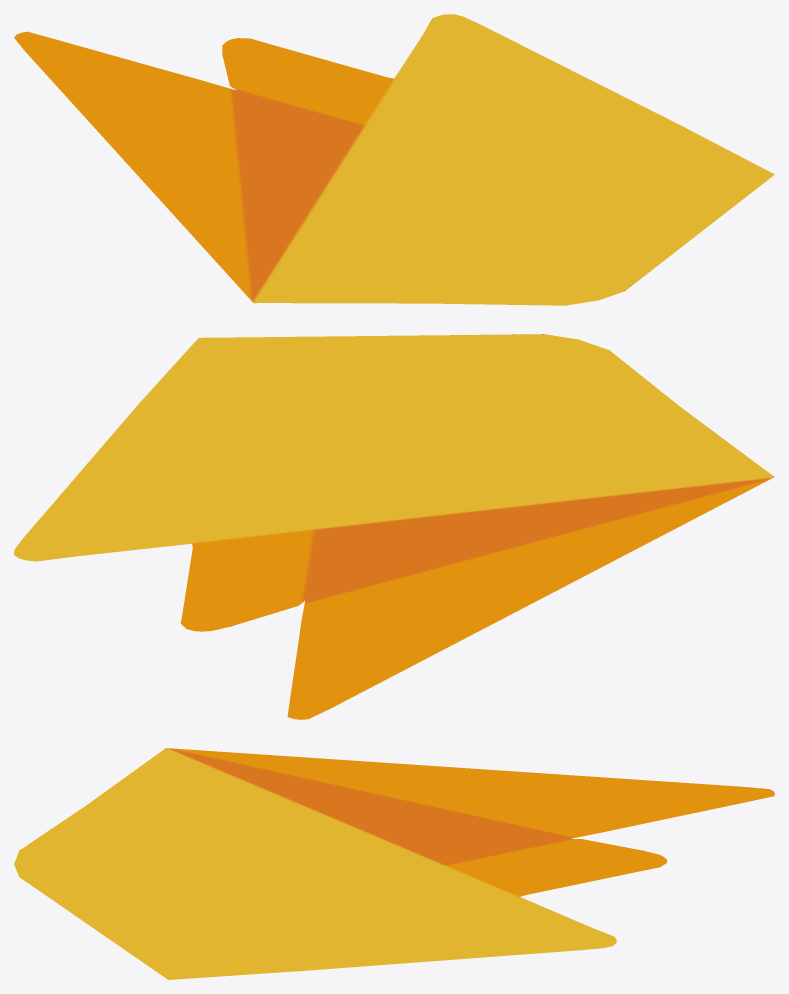
The model's file is firebase.glb.
3 views of the same model, one above another, from view 1: azimuth 30°, elevation 25°; view 2: azimuth 150°, elevation 25°; view 3: azimuth 270°, elevation 25° (orthographic). The views are drawn at different scales.
Visible parts, largest first — view 1: Plane.002; view 2: Plane.002; view 3: Plane.002.
Boxes of the visible parts, <box> form: Plane.002: <box>14,14,774,305</box>; Plane.002: <box>14,334,774,719</box>; Plane.002: <box>14,748,774,979</box>.
Bounding box in the file's own units: 2.57 × 0 × 3.57.
1 material, 1 textured.
